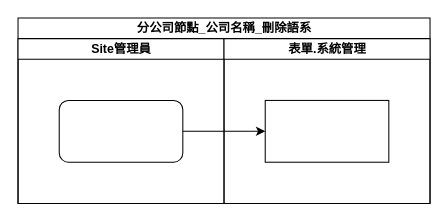
Some shapes in this 448 by 221 pixel diagram are drawn without their labels. Each missing label, with the centre of its shape:
刪除該筆語系名稱: the point at 326,130
點擊按鈕.刪除語系: the point at 120,130
